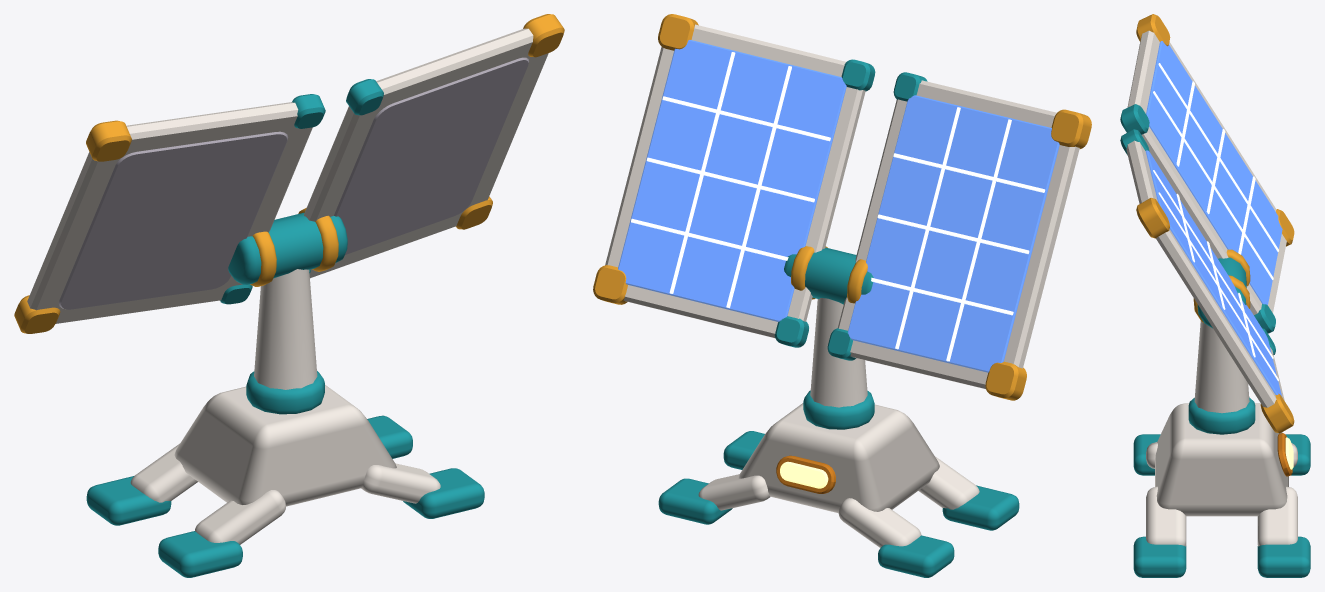
Rendered from panel_solar.glb.
The picture shows the model from 3 angles, left to right: view 1: azimuth 30°, elevation 25°; view 2: azimuth 150°, elevation 25°; view 3: azimuth 270°, elevation 25°; orthographic projection. The views are drawn at different scales.
Visible parts, largest first — view 1: Malla_hueso_sombra, Malla_hueso2, Malla_hueso, Malla_turquesa, Malla_turquesa3, Malla_ambar_mate3; view 2: Malla_panel_azul, Malla_hueso, Malla_hueso2, Malla_turquesa, Malla_panel_linea3, Malla_ambar_mate3, Malla_turquesa3, Luz, Marco; view 3: Malla_hueso2, Malla_panel_azul, Malla_hueso, Malla_turquesa, Malla_panel_linea3, Malla_ambar_mate3, Malla_turquesa3, Marco.
Boxes of the visible parts, x1,y1,x2,y2 form: Malla_hueso_sombra: [58, 57, 529, 309]; Malla_hueso2: [130, 269, 440, 544]; Malla_hueso: [27, 28, 548, 323]; Malla_turquesa: [86, 371, 484, 577]; Malla_turquesa3: [220, 79, 383, 304]; Malla_ambar_mate3: [14, 14, 564, 333]; Malla_panel_azul: [618, 40, 1059, 372]; Malla_hueso: [605, 24, 1079, 389]; Malla_hueso2: [698, 298, 979, 547]; Malla_turquesa: [658, 390, 1019, 577]; Malla_panel_linea3: [631, 52, 1045, 361]; Malla_ambar_mate3: [593, 14, 1091, 400]; Malla_turquesa3: [774, 59, 927, 360]; Luz: [780, 461, 828, 488]; Marco: [776, 455, 835, 493]; Malla_hueso2: [1146, 321, 1297, 546]; Malla_panel_azul: [1145, 41, 1282, 396]; Malla_hueso: [1126, 30, 1286, 407]; Malla_turquesa: [1133, 397, 1310, 577]; Malla_panel_linea3: [1153, 63, 1278, 381]; Malla_ambar_mate3: [1136, 14, 1294, 433]; Malla_turquesa3: [1120, 104, 1275, 354]; Marco: [1277, 433, 1292, 476].
Size of the model in its own units: 3.02 by 2.9 by 1.22.
